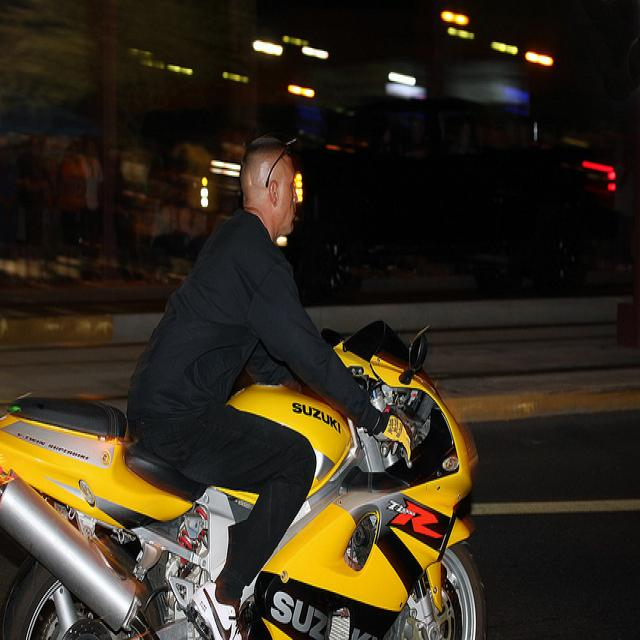motor: (0, 318, 482, 636)
